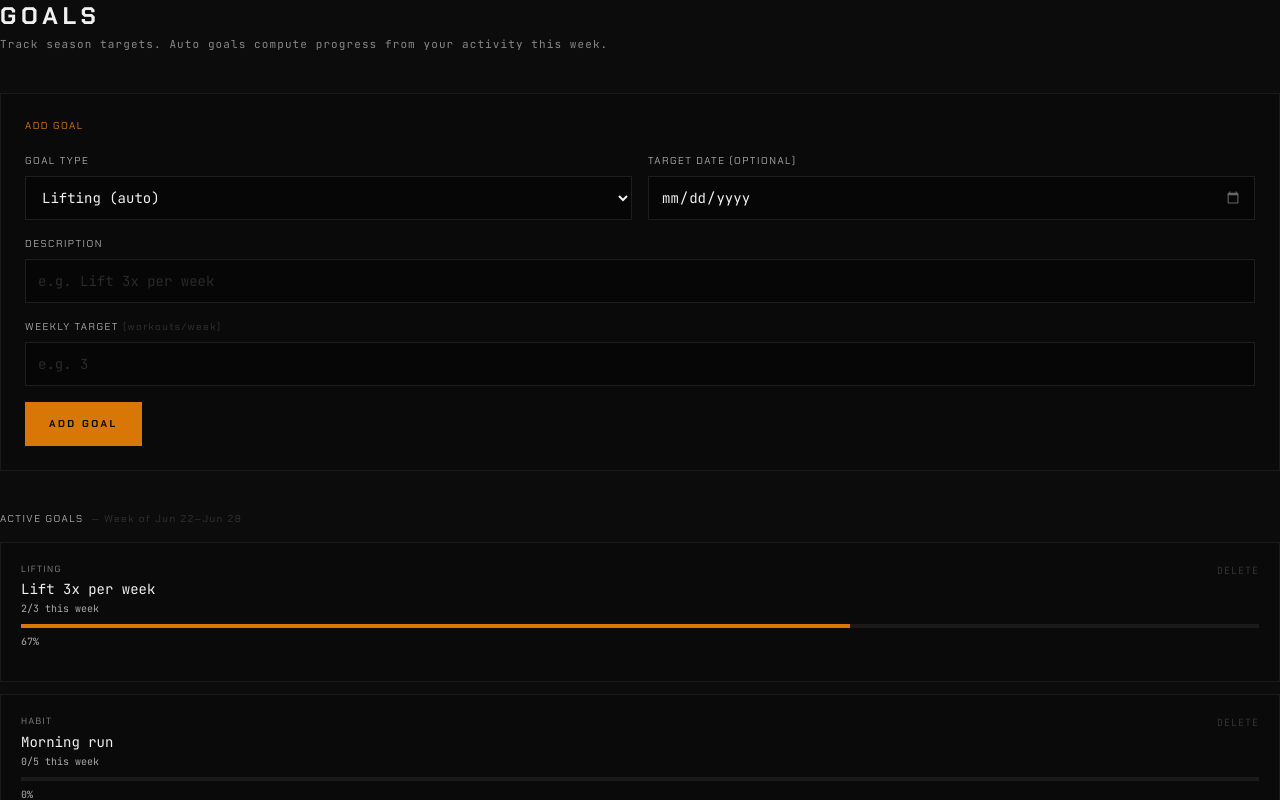
Test: Goals › delete confirmation dialog appears
Expected: the text "Lift 3x per week" is shown, left=21, top=580, right=155, bottom=598
Click DELETE on first active goal
Click the 1st button "DELETE" at [1238, 570], box left=1217, top=562, right=1259, bottom=578
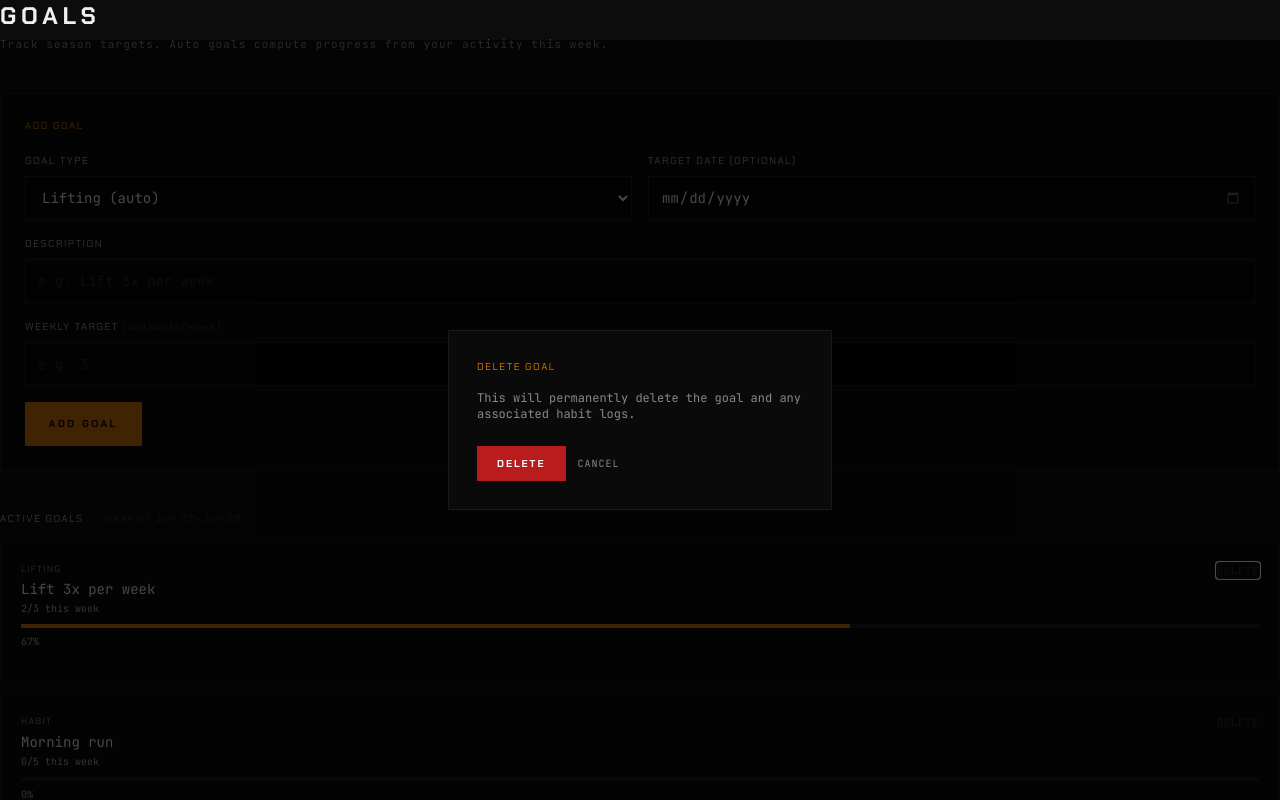
Expected: the text "DELETE GOAL" is shown, left=477, top=360, right=556, bottom=373
Expected: the text "permanently delete the goal" is shown, left=477, top=390, right=801, bottom=422
Click the button "CANCEL" at [598, 464], box left=578, top=446, right=620, bottom=481
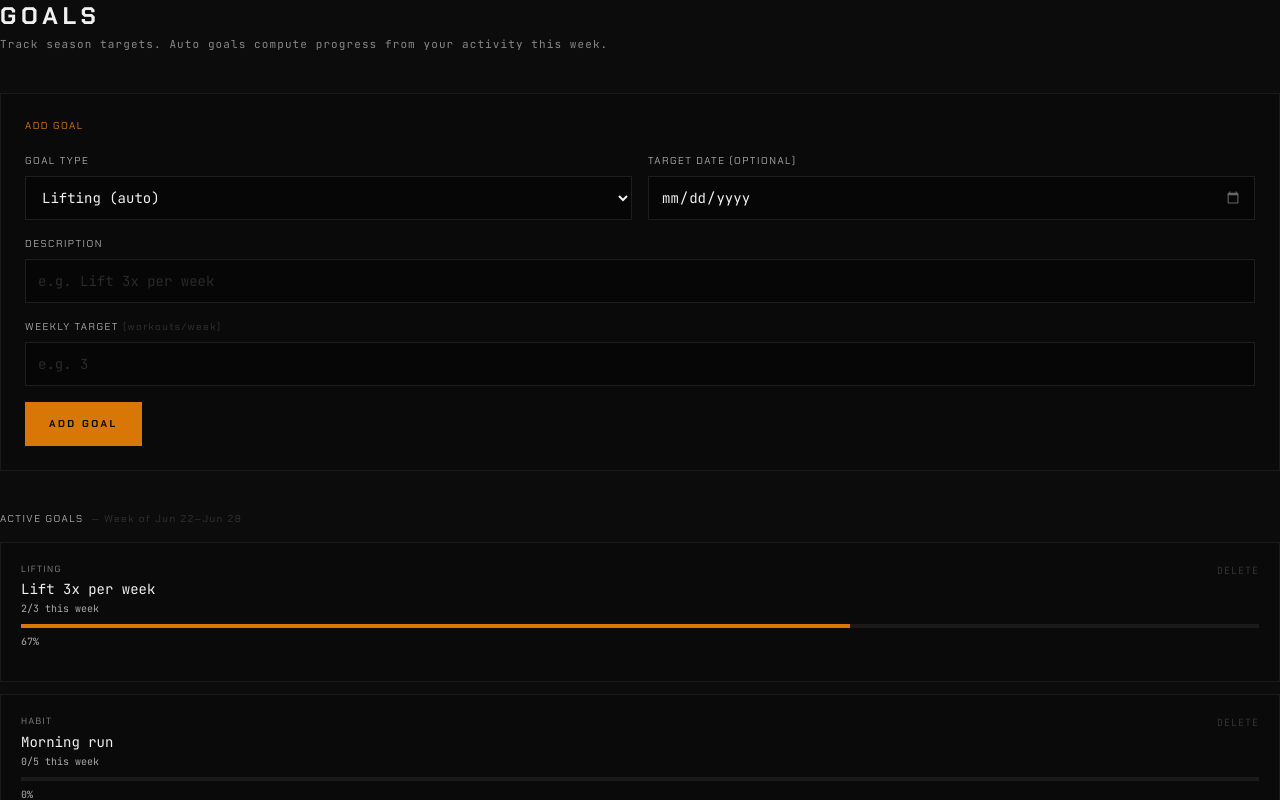
Expected: the text "DELETE GOAL" is gone
